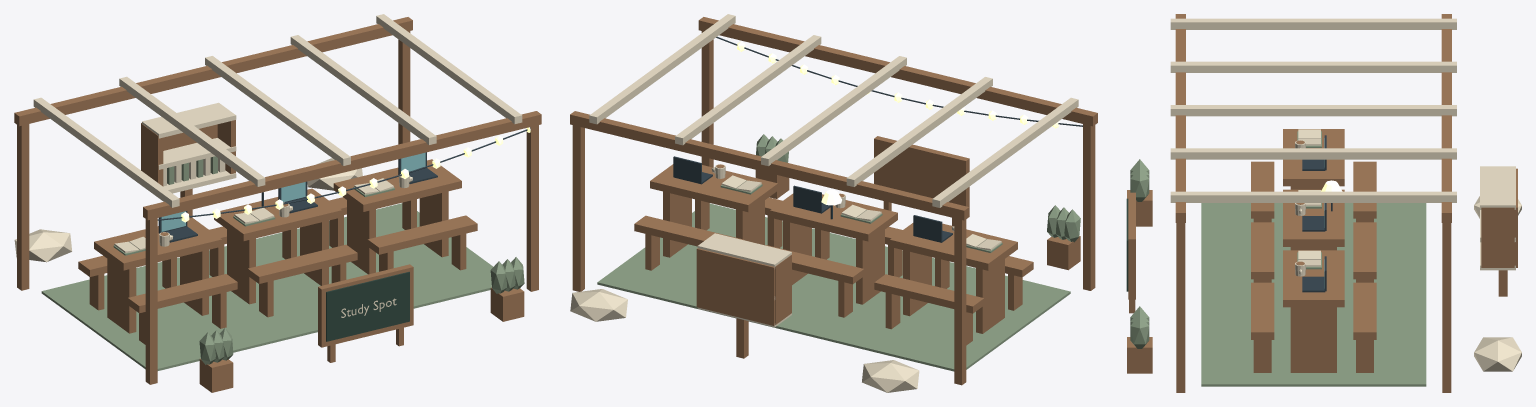
File: study_nook.glb
3 views of the same model, side by side, from view 1: azimuth 30°, elevation 25°; view 2: azimuth 150°, elevation 25°; view 3: azimuth 270°, elevation 25° (orthographic). The views are drawn at different scales.
Visible parts, largest first — view 1: rug_patch, pergola_beam.001, pergola_beam, chalkboard, table_2, table_1, table_0, pergola_slat.004, pergola_slat, pergola_slat.001, pergola_slat.003, pergola_slat.002 (+30 smaller); view 2: rug_patch, pergola_beam, pergola_beam.001, little_library, chalkboard_frame, table_2, table_1, table_0, pergola_slat, pergola_slat.004, pergola_slat.003, pergola_slat.001 (+30 smaller); view 3: rug_patch, pergola_slat.001, pergola_slat.003, pergola_slat, pergola_slat.002, pergola_slat.004, table_2_leg.001, table_2, table_1, table_0, library_side.001, pergola_beam (+20 smaller).
Boxes of the visible parts, box(x1,y1,x2,y2) form: rug_patch: box(41, 203, 493, 370); pergola_beam.001: box(143, 111, 541, 220); pergola_beam: box(14, 17, 412, 126); chalkboard: box(326, 271, 409, 341); table_2: box(333, 159, 461, 211); table_1: box(214, 188, 341, 241); table_0: box(94, 217, 222, 270); pergola_slat.004: box(376, 14, 522, 124); pergola_slat: box(33, 97, 179, 207); pergola_slat.001: box(119, 76, 265, 186); pergola_slat.003: box(290, 35, 436, 144); pergola_slat.002: box(205, 56, 350, 165); rug_patch: box(597, 203, 1070, 371); pergola_beam: box(570, 111, 969, 220); pergola_beam.001: box(698, 17, 1097, 126); little_library: box(696, 248, 775, 325); chalkboard_frame: box(874, 136, 969, 216); table_2: box(650, 164, 777, 212); table_1: box(770, 193, 897, 241); table_0: box(890, 223, 1017, 270); pergola_slat: box(932, 97, 1078, 207); pergola_slat.004: box(589, 14, 735, 124); pergola_slat.003: box(675, 35, 821, 145); pergola_slat.001: box(846, 77, 992, 186); rug_patch: box(1201, 203, 1426, 386); pergola_slat.001: box(1170, 61, 1456, 72); pergola_slat.003: box(1170, 148, 1456, 159); pergola_slat: box(1170, 18, 1456, 29); pergola_slat.002: box(1170, 105, 1456, 116); pergola_slat.004: box(1170, 191, 1456, 202); table_2_leg.001: box(1290, 307, 1336, 372); table_2: box(1283, 250, 1344, 307); table_1: box(1283, 189, 1344, 246); table_0: box(1283, 129, 1344, 186); library_side.001: box(1481, 207, 1514, 267); pergola_beam: box(1441, 14, 1451, 222).
Size of the model in its own units: 9.2 by 4.05 by 7.74.
